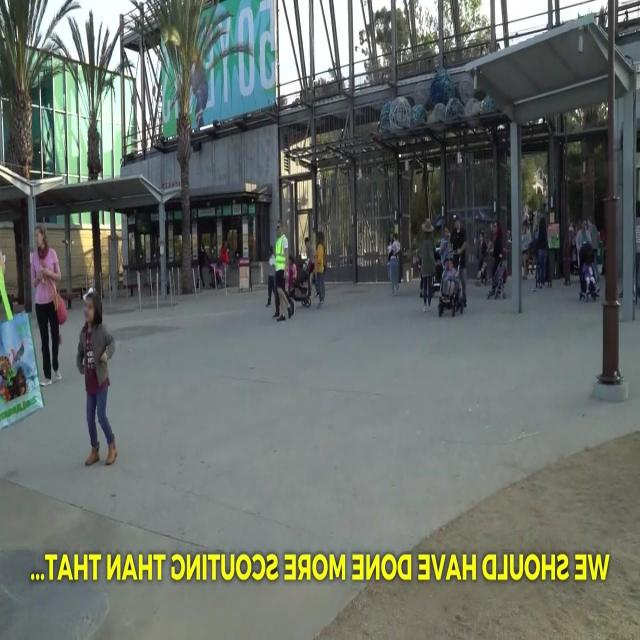Safety-Helmet: (273, 234, 288, 272)
